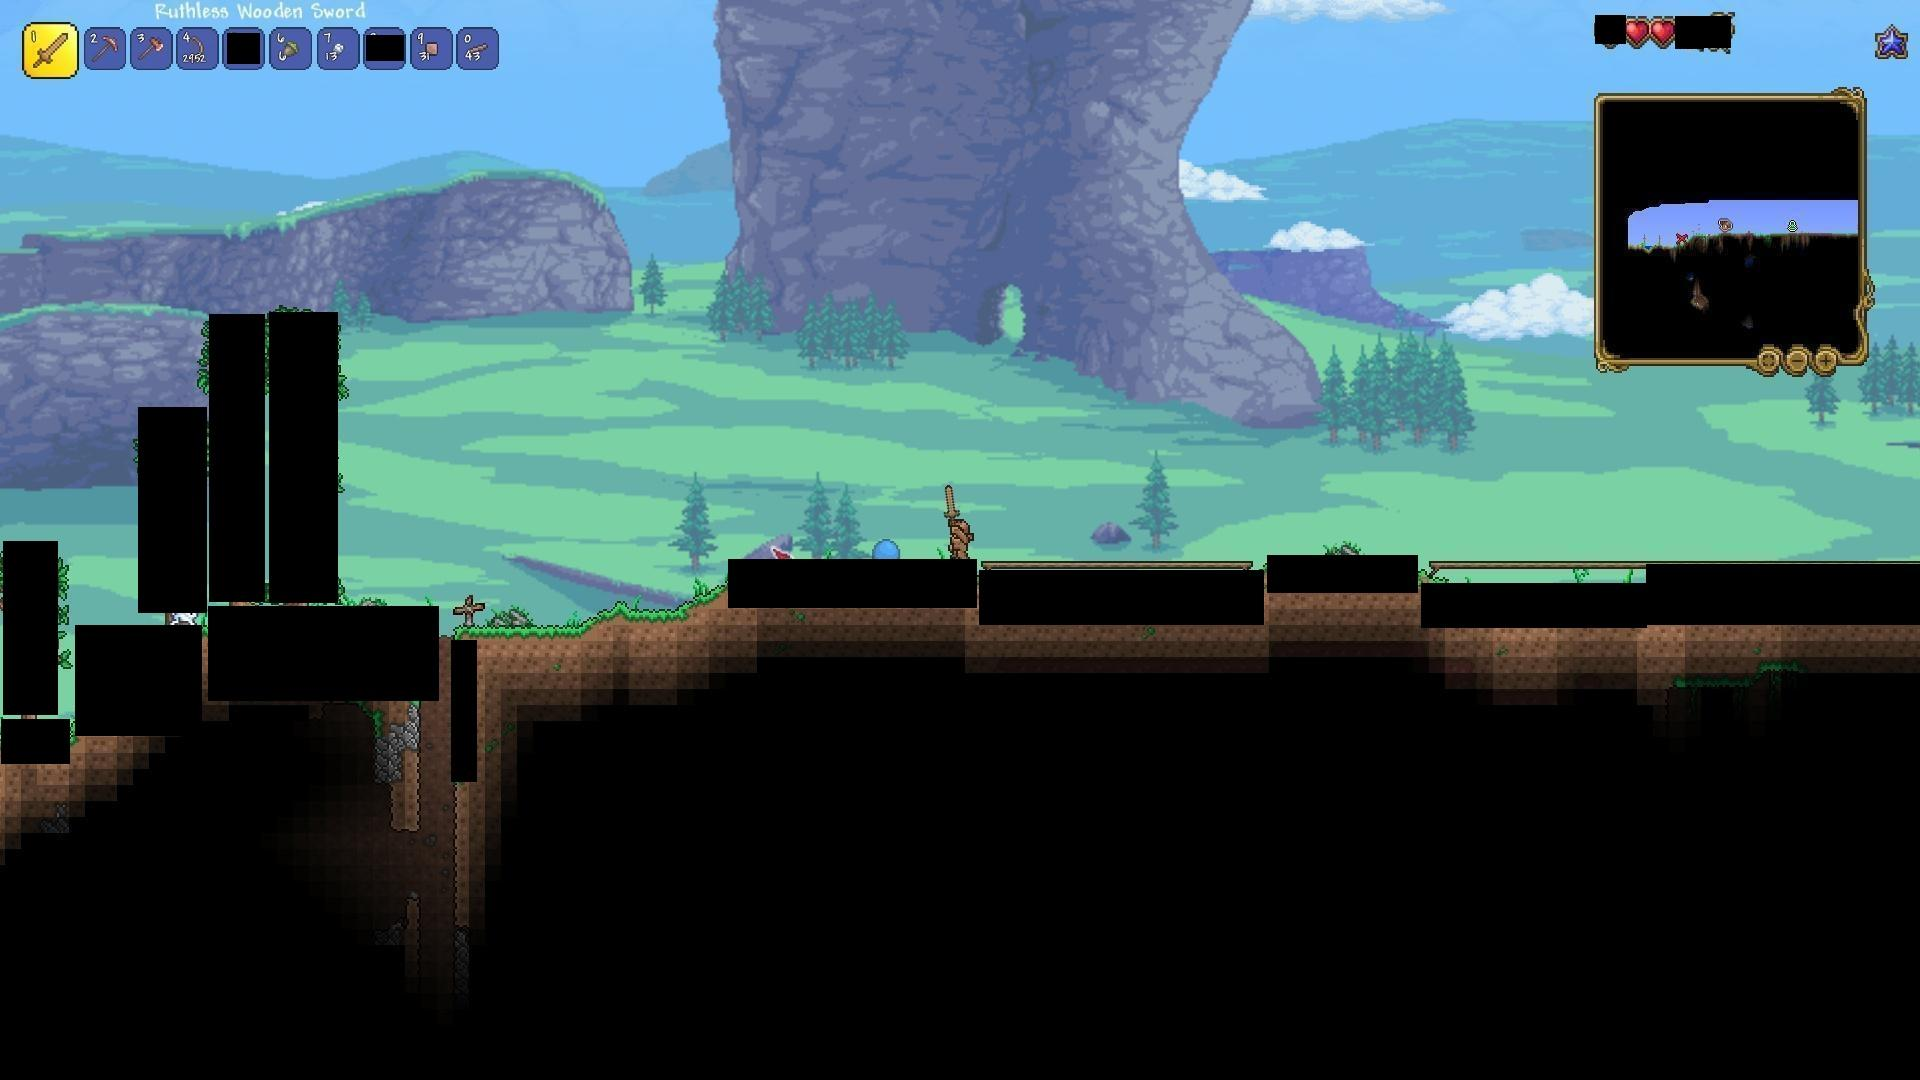dirt: (458, 582, 725, 641)
heart: (1648, 17, 1676, 47), (1625, 17, 1651, 46)
slime: (870, 537, 903, 563)
